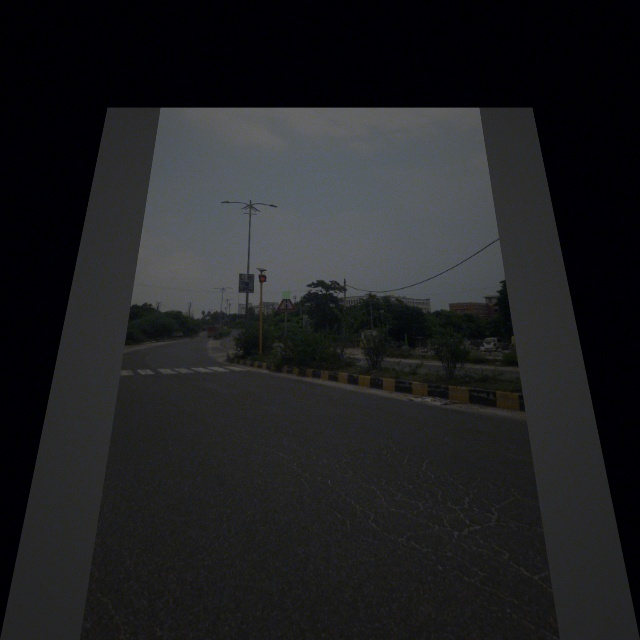Gap_in_Median: (274, 288, 298, 315)
